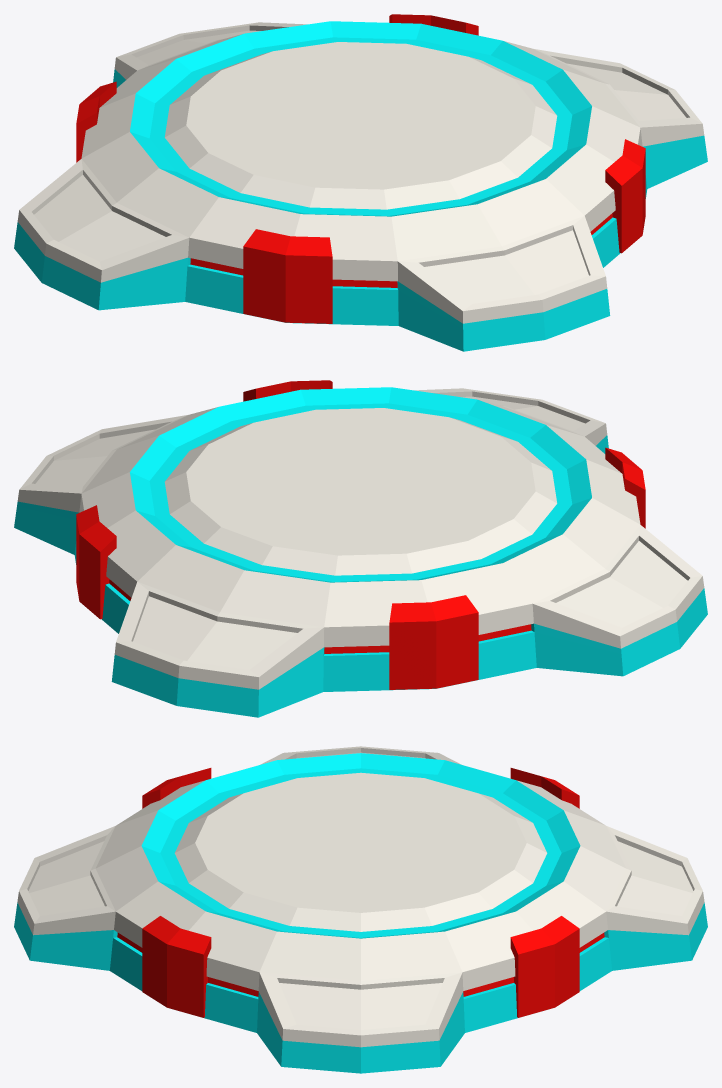
Rendered from Item_Pickup_Pad.fbx.
3 views of the same model, one above another, from view 1: azimuth 30°, elevation 25°; view 2: azimuth 150°, elevation 25°; view 3: azimuth 270°, elevation 25° (orthographic). The views are drawn at different scales.
Parts seen in each view (by area): view 1: Props_Base; view 2: Props_Base; view 3: Props_Base.
Boxes of the visible parts, left/top/right/bottom form: Props_Base: left=14, top=14, right=707, bottom=351; Props_Base: left=14, top=380, right=707, bottom=717; Props_Base: left=14, top=746, right=707, bottom=1073.
Size of the model in its own units: 23.96 by 3.2 by 23.96.
